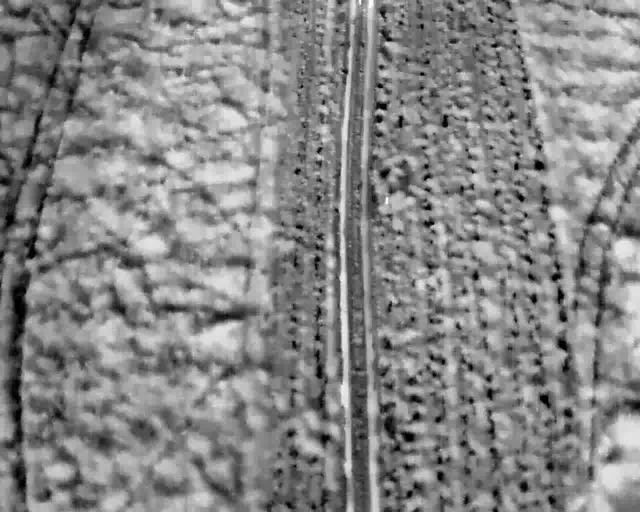person: (365, 0, 376, 9), (356, 0, 362, 6)
